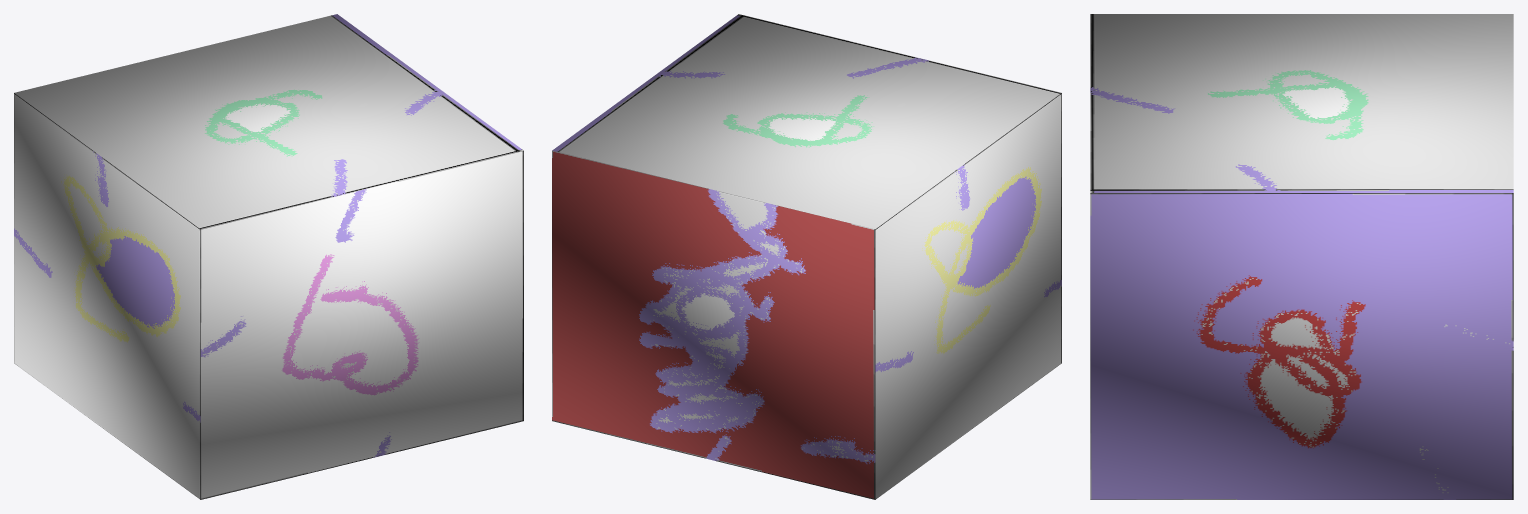
Rendered from testtile.fbx.
3 renders of one model, left to right at view 1: azimuth 30°, elevation 25°; view 2: azimuth 150°, elevation 25°; view 3: azimuth 270°, elevation 25°, orthographic. The views are drawn at different scales.
Parts seen in each view (by area): view 1: Cube; view 2: Cube; view 3: Cube.
Boxes of the visible parts, left/top/right/bottom form: Cube: left=14, top=14, right=523, bottom=499; Cube: left=552, top=14, right=1061, bottom=499; Cube: left=1090, top=14, right=1513, bottom=499.
Bounding box in the file's own units: 250 × 200 × 250.
1 material, 1 textured.
